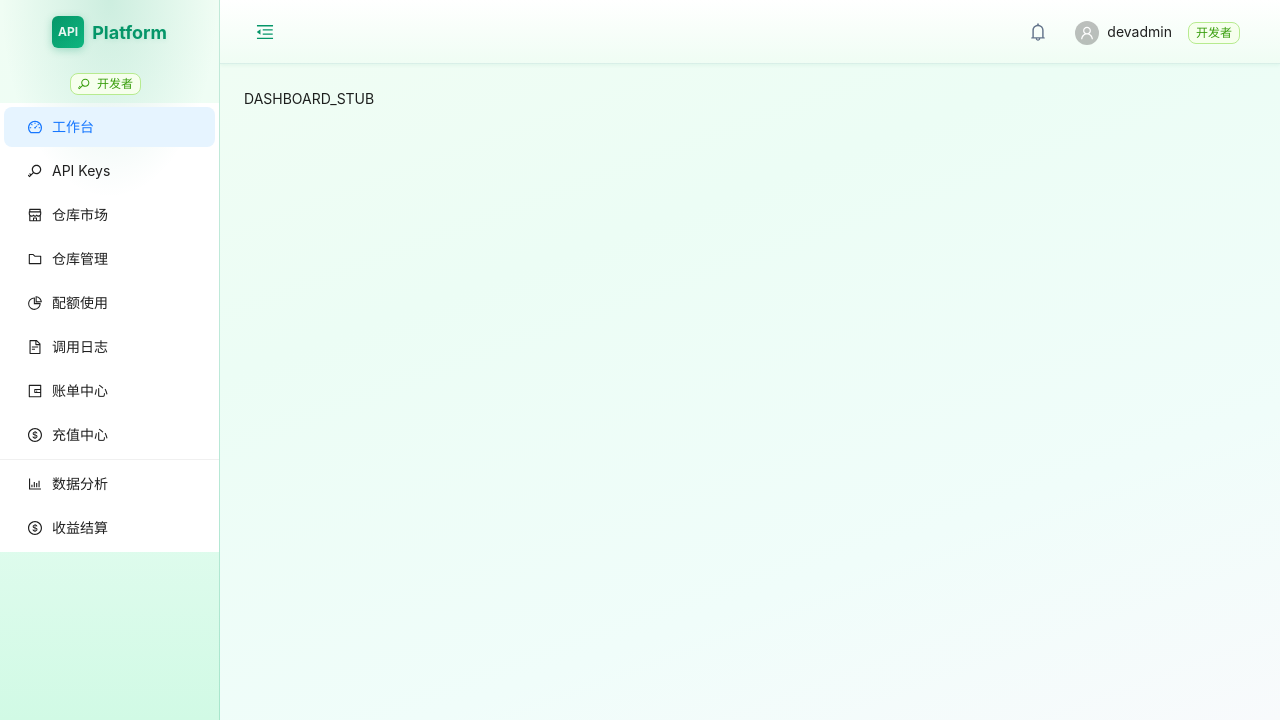
Test: Layout 响应式骨架与通知中心 › TC-FE-LAYOUT-010: 桌面端侧边栏折叠/展开（折叠时隐藏 logo 文案与类型标签）
Expected: the text "devadmin" is shown, [1107,22,1172,40]
Expected: the text "Platform" is shown, [92,18,167,46]
Click the picture named "menu-fold". click: x=265, y=32
box: [256,22,274,40]
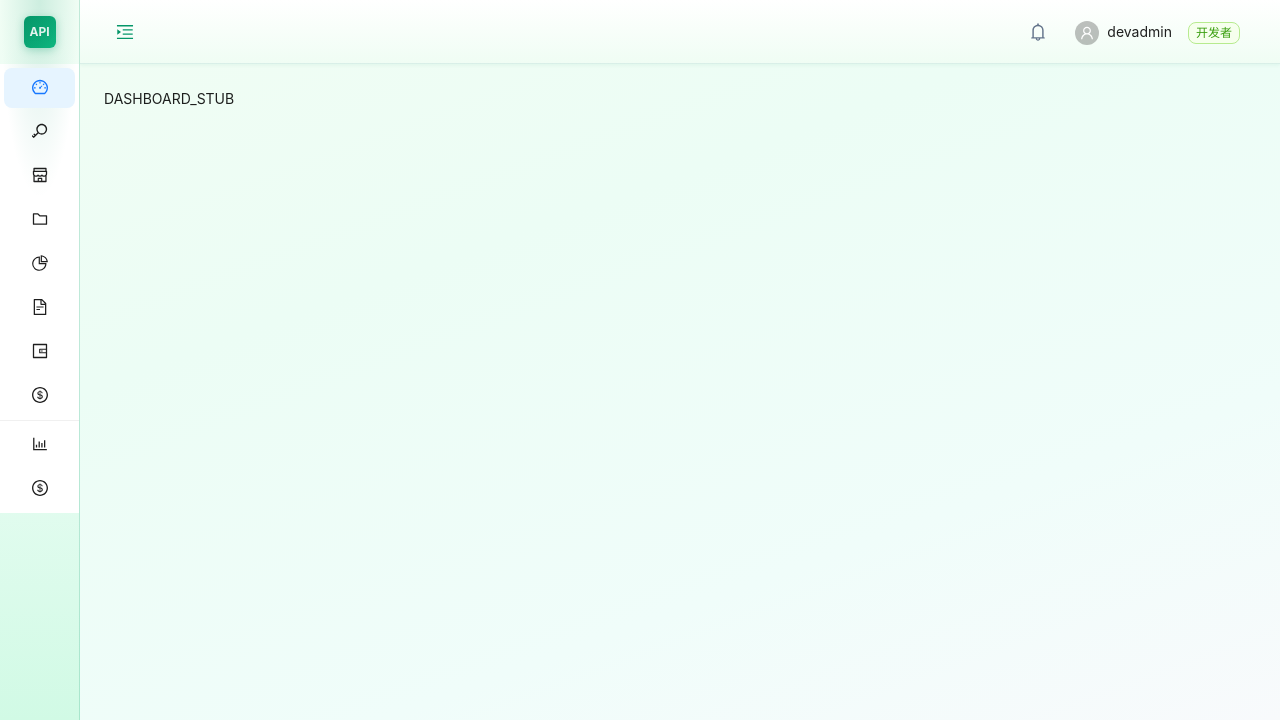
Result: the text "Platform" is gone
Result: the picture named "menu-unfold" is shown
Click the picture named "menu-unfold". click: x=125, y=32
box: [116,22,134,40]
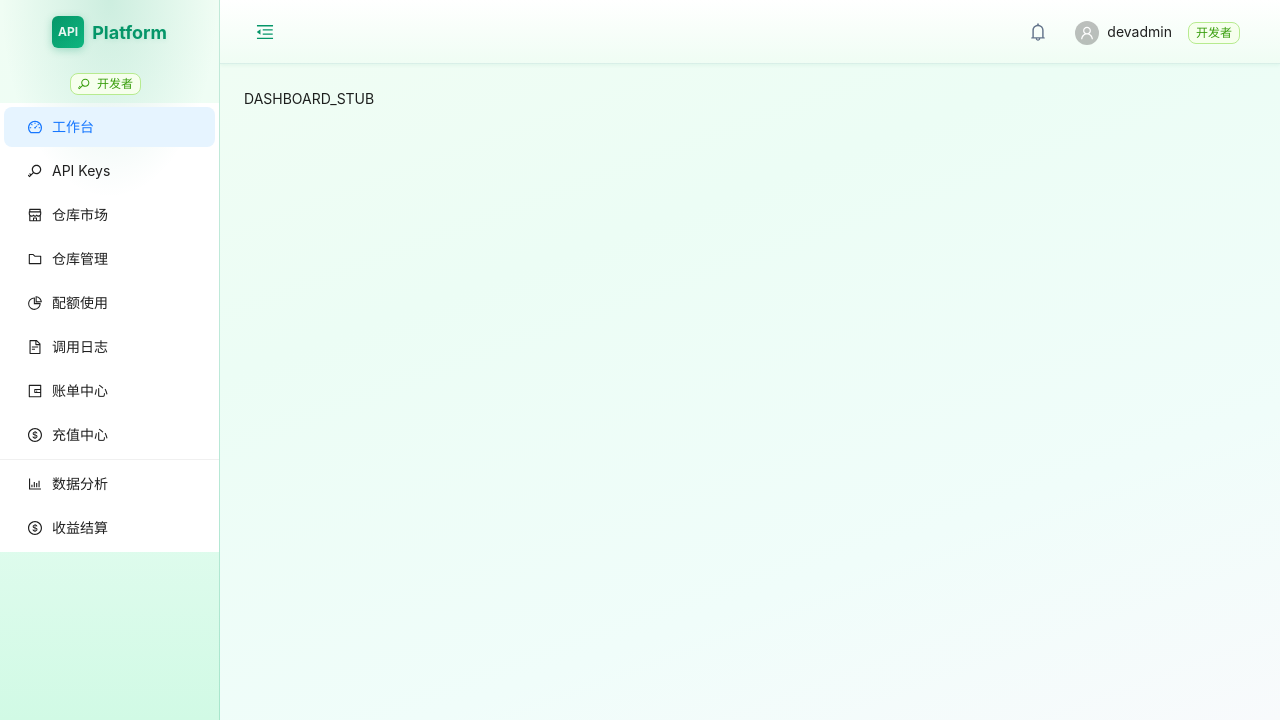
Result: the text "Platform" is shown at [92,18,167,46]
